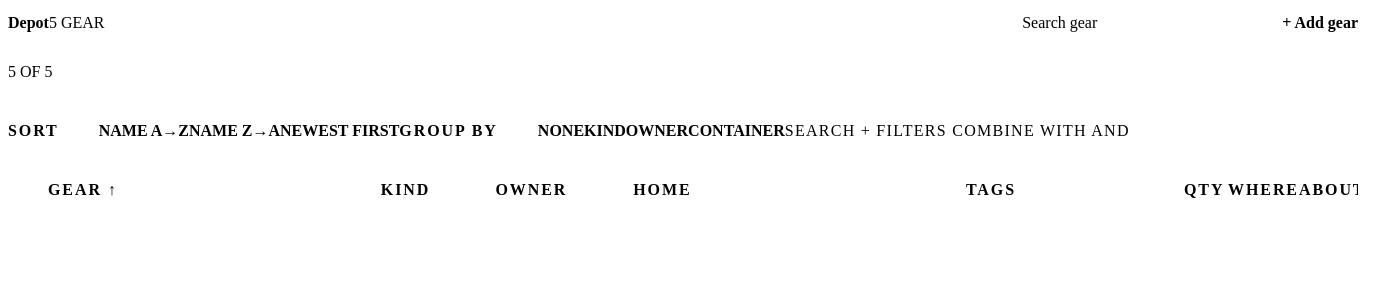
Scenario: the Depot grouped by container (S9b, D5) › draws flat headers, the sentinel first with no meta, and every other header with the container`s own home path
The width and height of the screenshot is (1378, 306).
Click the button "CONTAINER" at (736, 131), box [688,113,785,149]
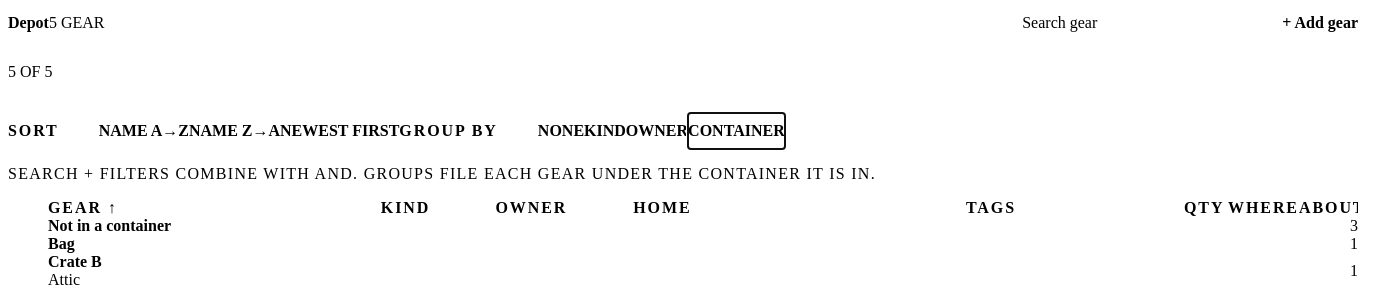
Expected: the number of list items with test id "depot-group-header" is 3, [48,217,1358,235]; [48,235,1358,253]; [48,253,1358,289]
Expected: the text "Not in a container" is shown, [48,217,171,235]
Expected: the text "Bag" is shown, [48,235,75,253]
